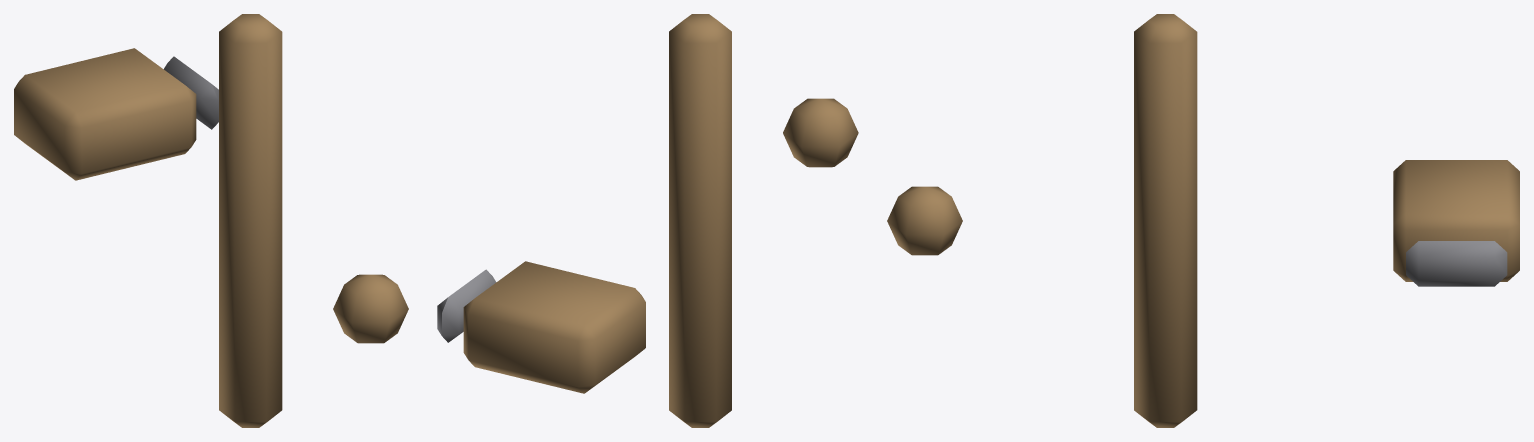
File: weapons_warhammer.glb
3 views of the same model, side by side, from view 1: azimuth 30°, elevation 25°; view 2: azimuth 150°, elevation 25°; view 3: azimuth 270°, elevation 25° (orthographic).
Visible parts, largest first — view 1: weapons_warhammer; view 2: weapons_warhammer; view 3: weapons_warhammer.
Boxes of the visible parts, box(x1,y1,x2,y2) form: weapons_warhammer: box(14, 14, 408, 427); weapons_warhammer: box(437, 14, 858, 427); weapons_warhammer: box(887, 14, 1519, 427).
Bounding box in the file's own units: 0.15 × 0.35 × 0.5.
